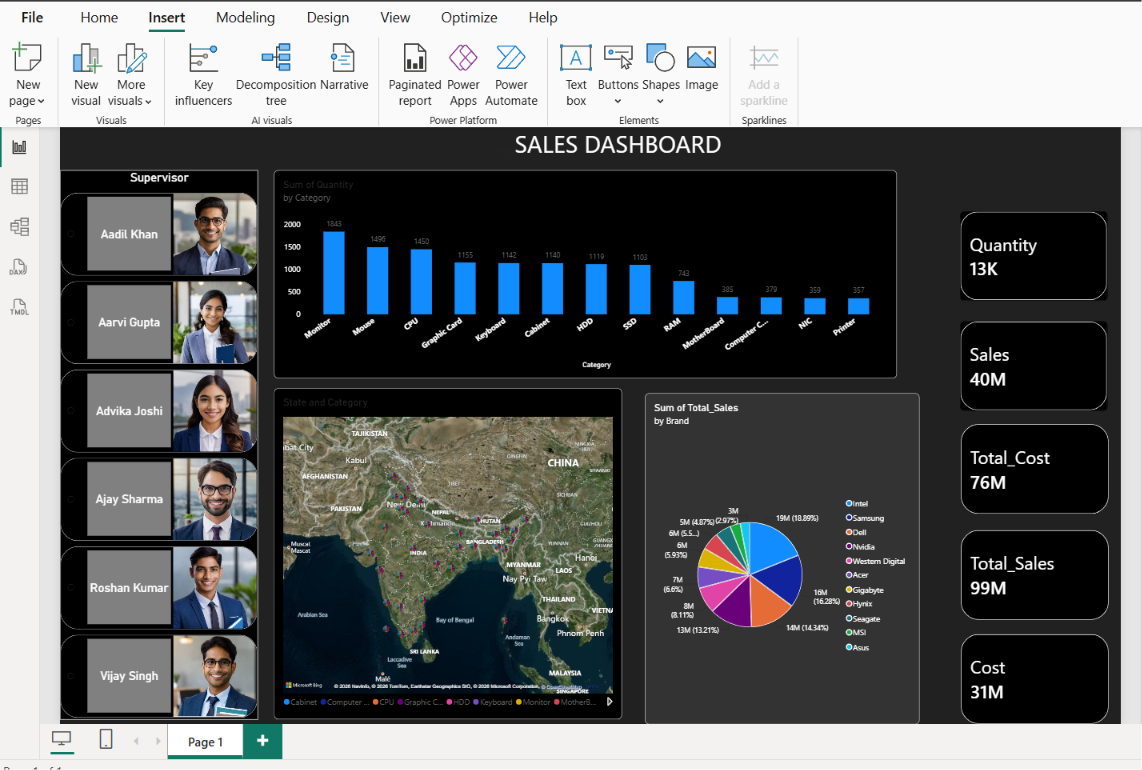

The dashboard page shown, as its layout file describes it:
{"tool":"powerbi","page":{"name":"Page 1","canvas":[1920,1080],"ordinal":0},"visuals":[{"type":"advancedSlicerVisual","fields":{"Values":["Supervisor.Supervisor"]},"box":[0,78.2,358.1,994.2],"z":0},{"type":"columnChart","fields":{"Category":["Sales_Data.Category"],"Y":["Sum(Sales_Data.Quantity)"]},"box":[387.3,77.8,1127.4,376.4],"z":1},{"type":"cardVisual","fields":{"Data":["Sum(Sales_Data.Cost)"]},"box":[1630.2,918,267.6,162.6],"z":6},{"type":"cardVisual","fields":{"Data":["Sum(Sales_Data.Total_Sales)"]},"box":[1630.2,728.6,267.6,162.6],"z":7},{"type":"cardVisual","fields":{"Data":["Sum(Sales_Data.Total_Cost)"]},"box":[1630.2,537.2,267.6,162.6],"z":8},{"type":"cardVisual","fields":{"Data":["Sum(Sales_Data.Sales)"]},"box":[1628.1,352,267.6,162.6],"z":9},{"type":"cardVisual","fields":{"Data":["Sum(Sales_Data.Quantity)"]},"box":[1628.7,152,267.6,162.6],"z":10},{"type":"map","fields":{"Category":["State_list.State"],"Series":["Sales_Data.Category"]},"box":[387.3,472.3,629.8,599],"z":11},{"type":"pieChart","fields":{"Category":["Sales_Data.Brand"],"Y":["Sum(Sales_Data.Total_Sales)"]},"box":[1058.7,481.4,497,599],"z":12},{"type":"textbox","box":[90.5,0,1806,77.8],"z":13}]}

Visuals, with their boxes on the page's 1920x1080 design canvas (x1, y1, x2, y2). These are canvas units, not pixel positions in the 1142x770 screenshot, which may show the page scaled, cropped or inside an application window:
advancedSlicerVisual - Supervisor.Supervisor: 0, 78, 358, 1072
columnChart - Sales_Data.Category x Sum(Sales_Data.Quantity): 387, 78, 1515, 454
cardVisual - Sum(Sales_Data.Cost): 1630, 918, 1898, 1081
cardVisual - Sum(Sales_Data.Total_Sales): 1630, 729, 1898, 891
cardVisual - Sum(Sales_Data.Total_Cost): 1630, 537, 1898, 700
cardVisual - Sum(Sales_Data.Sales): 1628, 352, 1896, 515
cardVisual - Sum(Sales_Data.Quantity): 1629, 152, 1896, 315
map - State_list.State x Sales_Data.Category: 387, 472, 1017, 1071
pieChart - Sales_Data.Brand x Sum(Sales_Data.Total_Sales): 1059, 481, 1556, 1080
textbox: 90, 0, 1896, 78
